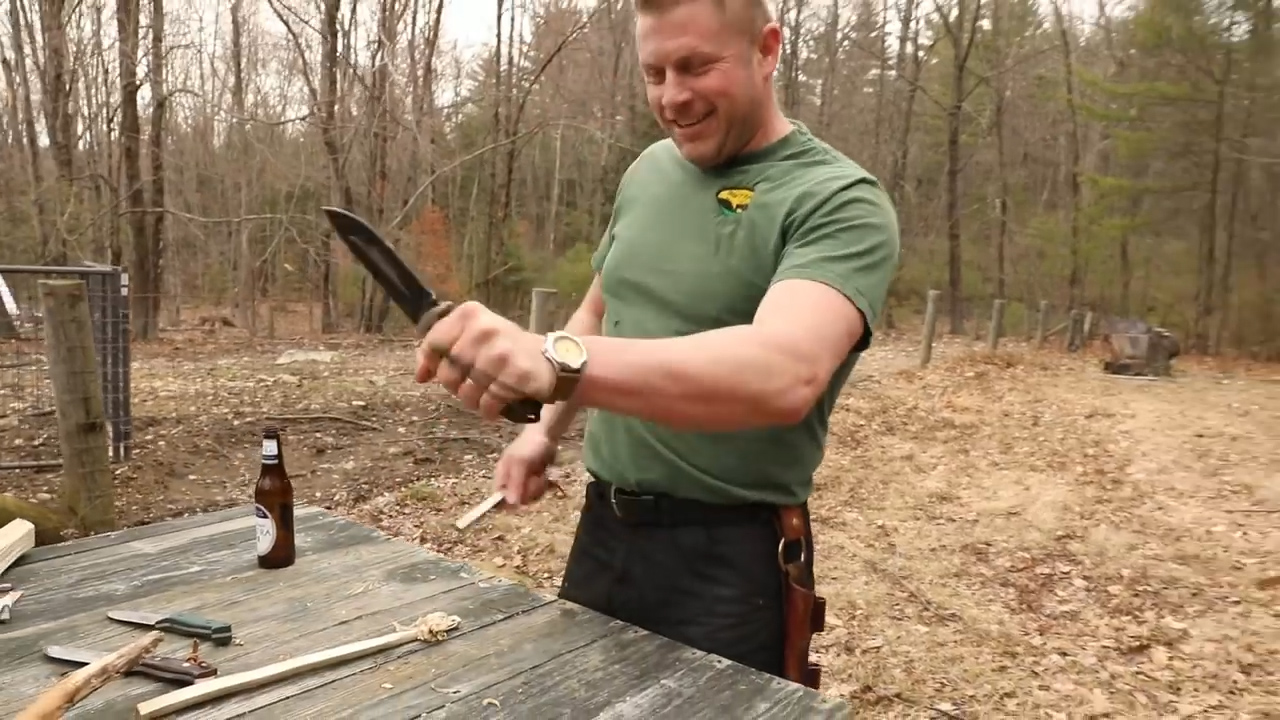knife: (306, 181, 540, 423)
